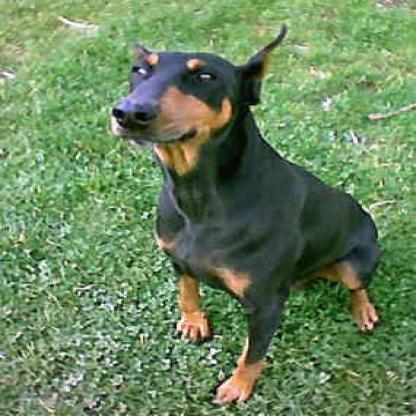Doberman: (105, 20, 384, 408)
